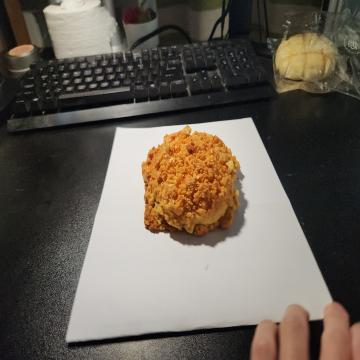soboru_bread: (139, 125, 241, 238)
